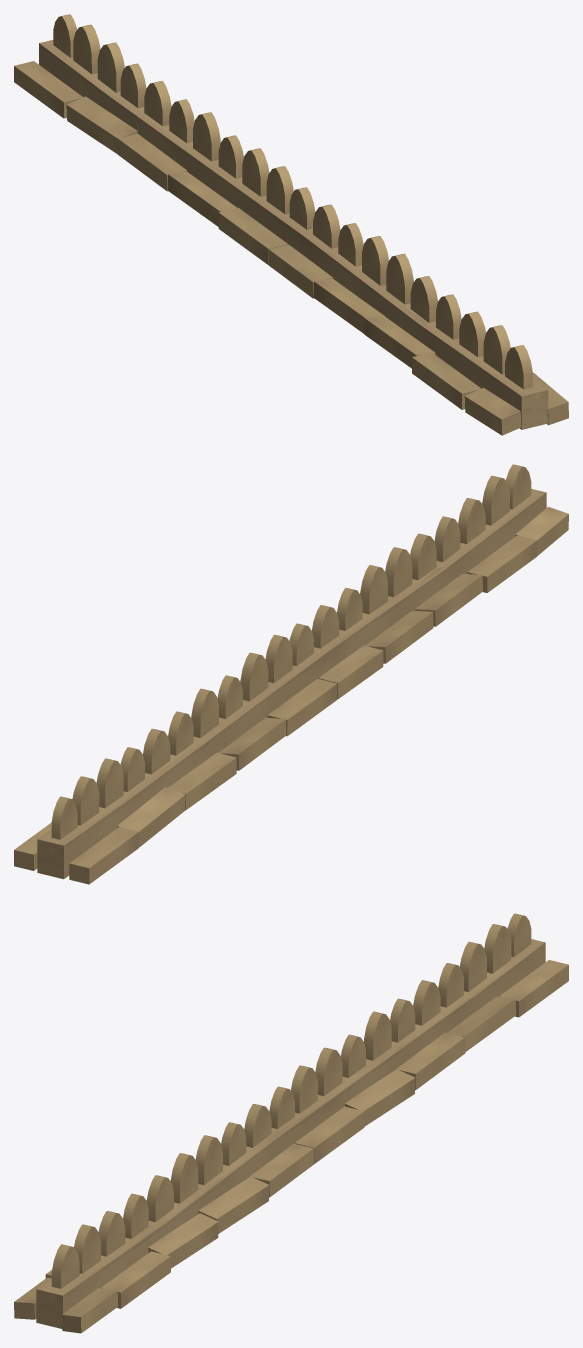
File: A_Medium_Wall_A_KitPart.FBX
The picture shows the model from 3 angles, top to bottom: view 1: azimuth 30°, elevation 25°; view 2: azimuth 150°, elevation 25°; view 3: azimuth 330°, elevation 25°; orthographic projection.
Visible parts, largest first — view 1: A_Medium_Wall_A_KitPart; view 2: A_Medium_Wall_A_KitPart; view 3: A_Medium_Wall_A_KitPart.
Part boxes in pixels (<box>): A_Medium_Wall_A_KitPart: <box>14,14,568,435</box>; A_Medium_Wall_A_KitPart: <box>14,464,568,884</box>; A_Medium_Wall_A_KitPart: <box>14,913,568,1333</box>.
Bounding box in the file's own units: 90.01 × 87.04 × 1003.
1 material, 1 textured.
